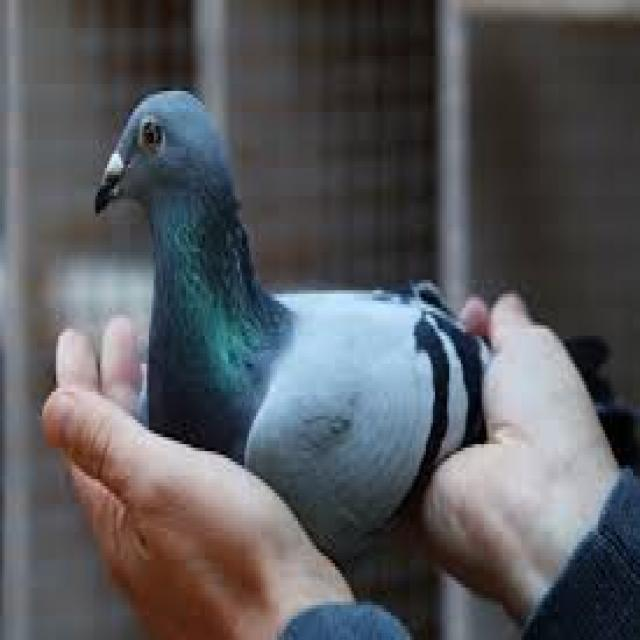Pigeon: (81, 77, 507, 554)
